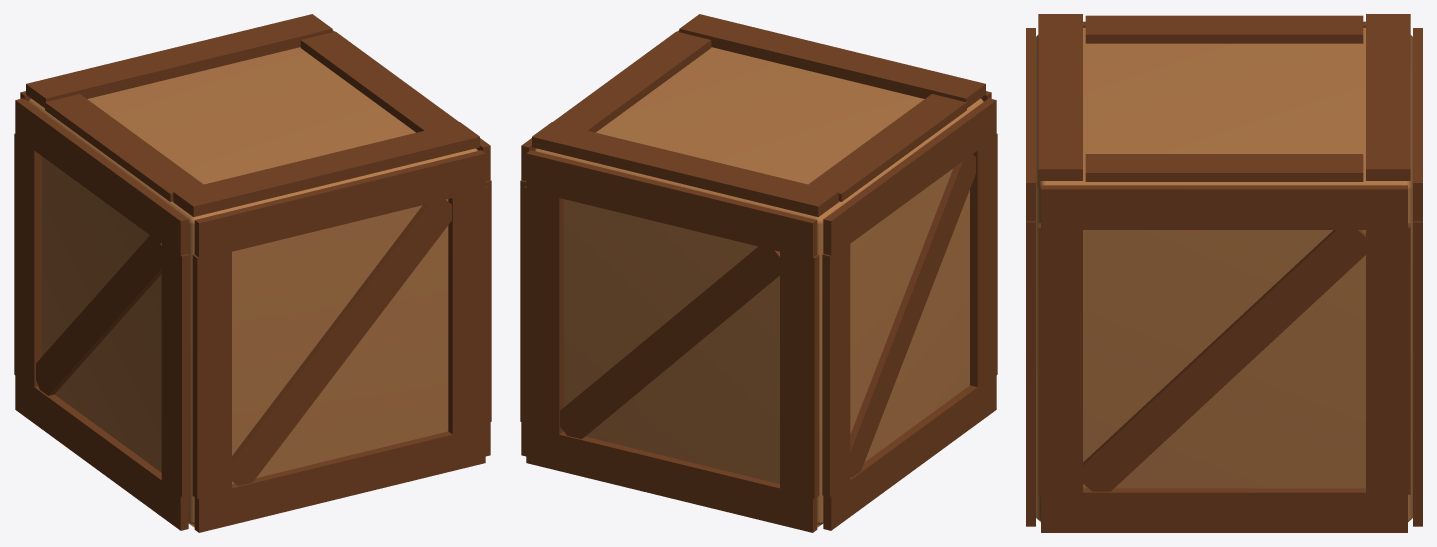
Rendered from mint-crate.glb.
3 renders of one model, left to right at view 1: azimuth 30°, elevation 25°; view 2: azimuth 150°, elevation 25°; view 3: azimuth 270°, elevation 25°, orthographic. The views are drawn at different scales.
Visible parts, largest first — view 1: mint-crate; view 2: mint-crate; view 3: mint-crate.
Part boxes in pixels (bbox=[...]): mint-crate: bbox=[14, 14, 491, 532]; mint-crate: bbox=[520, 14, 997, 532]; mint-crate: bbox=[1026, 14, 1422, 532].
Bounding box in the file's own units: 0.8 × 0.8 × 0.8.
